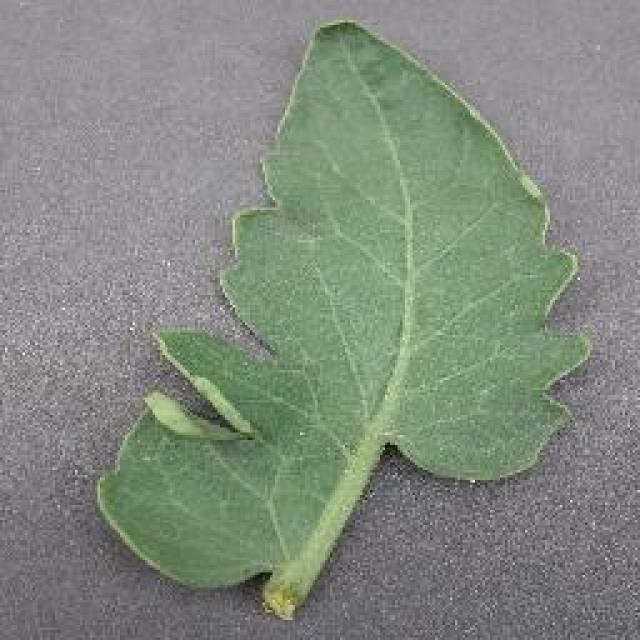Healthy: (80, 7, 602, 635)
